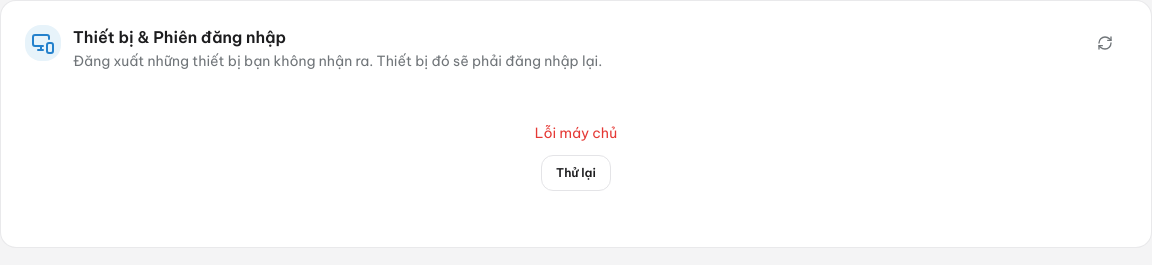
Test: SessionsTab › shows an error state with retry when loading fails
expect the text "Lỗi máy chủ" is shown: met, box [535, 124, 617, 142]
Click the button "Thử lại" at (576, 173), box [541, 155, 611, 191]
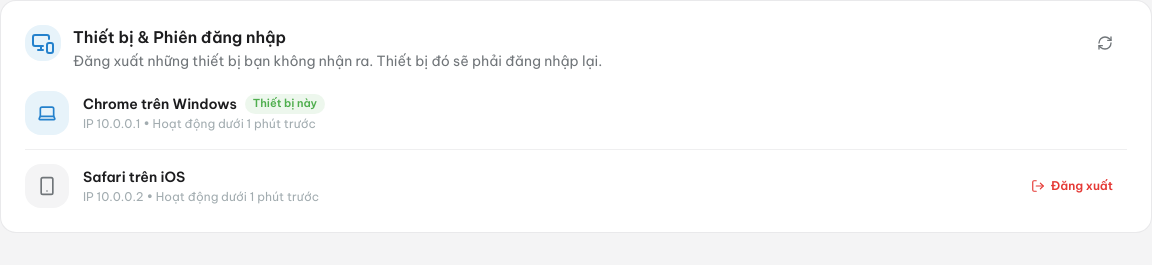
expect the list item with test id "session-item-laptop-1" is shown: met, box [25, 91, 325, 135]
